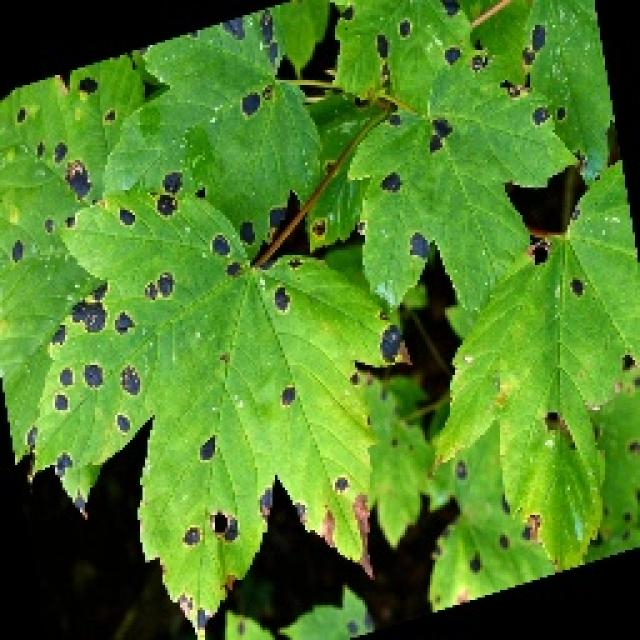Tar_Spot: (15, 170, 405, 638)
